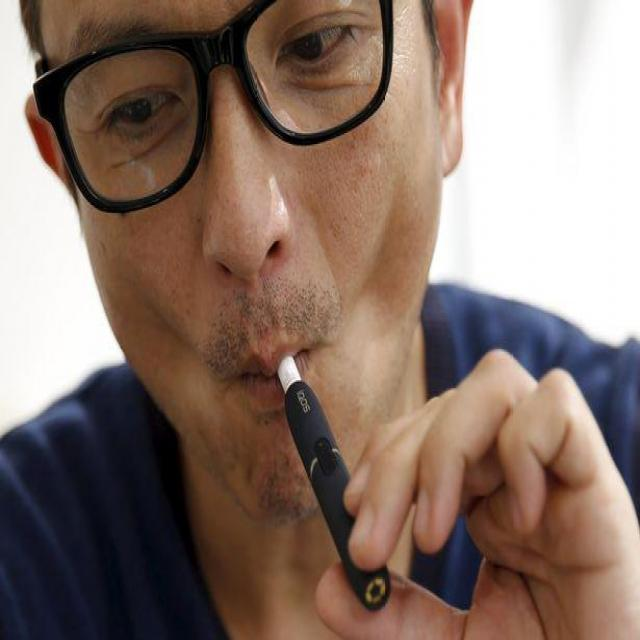Вейп: (283, 360, 387, 616)
Тело: (22, 1, 636, 640)
